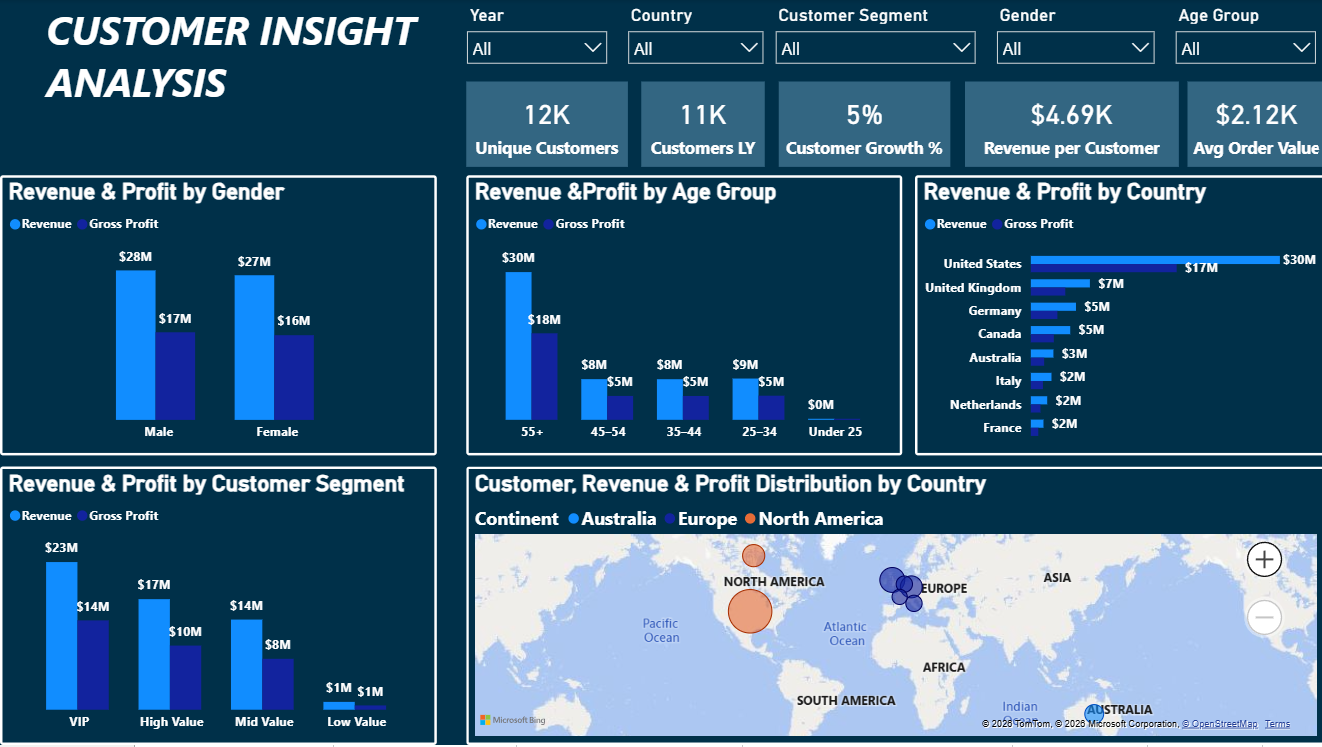

Layout of this report page (visuals, bound fields, positions):
{"tool":"powerbi","page":{"name":"CUSTOMER INSIGHTS ANALYSIS","canvas":[1280,720],"ordinal":3},"visuals":[{"type":"card","fields":{"Values":["Customers.Unique Customers"]},"box":[450,79.6,155.6,82],"z":0},{"type":"card","fields":{"Values":["Customers.Customer Growth %"]},"box":[751.6,79.6,165.3,82],"z":1000},{"type":"card","fields":{"Values":["Customers.Customers Previous Period"]},"box":[618.9,79.6,119.4,82],"z":2000},{"type":"card","fields":{"Values":["Customers.Revenue per Customer"]},"box":[931.4,79.6,206.3,82],"z":3000},{"type":"card","fields":{"Values":["Sales.Avg Order Value"]},"box":[1146.1,79.6,133.9,82],"z":4000},{"type":"clusteredColumnChart","title":"Revenue & Profit by Gender","fields":{"Category":["Customers.Gender"],"Y":["Sales.Revenue","Sales.Profit"]},"box":[0,170.2,421.3,270.3],"z":5000},{"type":"clusteredColumnChart","title":"Revenue &Profit by Age Group","fields":{"Category":["Customers.Age Group"],"Y":["Sales.Revenue","Sales.Profit"]},"box":[450,170.1,421,270.2],"z":6000},{"type":"clusteredBarChart","title":"Revenue & Profit by Country","fields":{"Category":["Customers.Country"],"Y":["Sales.Revenue","Sales.Profit"]},"box":[883.7,170.2,396.6,270.3],"z":7000},{"type":"map","title":"Customer, Revenue & Profit Distribution by Country","fields":{"Category":["Customers.Country"],"Size":["Customers.Unique Customers"],"Series":["Customers.Continent"]},"box":[450,451.2,830,269],"z":8000},{"type":"clusteredColumnChart","title":"Revenue & Profit by Customer Segment","fields":{"Category":["Customers.Customer Segment"],"Y":["Sales.Revenue","Sales.Profit"]},"box":[0,451.5,421.3,269],"z":9000},{"type":"textbox","box":[0,0,421,161.7],"z":10000},{"type":"slicer","fields":{"Values":["Calendar_Tbl.Year"]},"box":[440.4,0,155.6,67.6],"z":11000},{"type":"slicer","fields":{"Values":["Customers.Country"]},"box":[596,0,150.8,67.6],"z":12000},{"type":"slicer","fields":{"Values":["Customers.Customer Segment"]},"box":[738.3,0,213.5,67.6],"z":13000},{"type":"slicer","fields":{"Values":["Customers.Gender"]},"box":[951.9,0,172.5,67.6],"z":14000},{"type":"slicer","fields":{"Values":["Customers.Age Group"]},"box":[1124.4,0,155.6,67.6],"z":15000}]}

Visuals, with their boxes in screenshot pixels (x1, y1, x2, y2), scaled from the page's 1280x720 canvas onto the 1322x747 screenshot:
card - Customers.Unique Customers: region(465, 83, 625, 168)
card - Customers.Customer Growth %: region(776, 83, 947, 168)
card - Customers.Customers Previous Period: region(639, 83, 763, 168)
card - Customers.Revenue per Customer: region(962, 83, 1175, 168)
card - Sales.Avg Order Value: region(1184, 83, 1321, 168)
"Revenue & Profit by Gender" clusteredColumnChart: region(0, 177, 435, 457)
"Revenue &Profit by Age Group" clusteredColumnChart: region(465, 176, 900, 457)
"Revenue & Profit by Country" clusteredBarChart: region(913, 177, 1321, 457)
"Customer, Revenue & Profit Distribution by Country" map: region(465, 468, 1321, 746)
"Revenue & Profit by Customer Segment" clusteredColumnChart: region(0, 468, 435, 746)
textbox: region(0, 0, 435, 168)
slicer - Calendar_Tbl.Year: region(455, 0, 616, 70)
slicer - Customers.Country: region(616, 0, 771, 70)
slicer - Customers.Customer Segment: region(763, 0, 983, 70)
slicer - Customers.Gender: region(983, 0, 1161, 70)
slicer - Customers.Age Group: region(1161, 0, 1321, 70)
